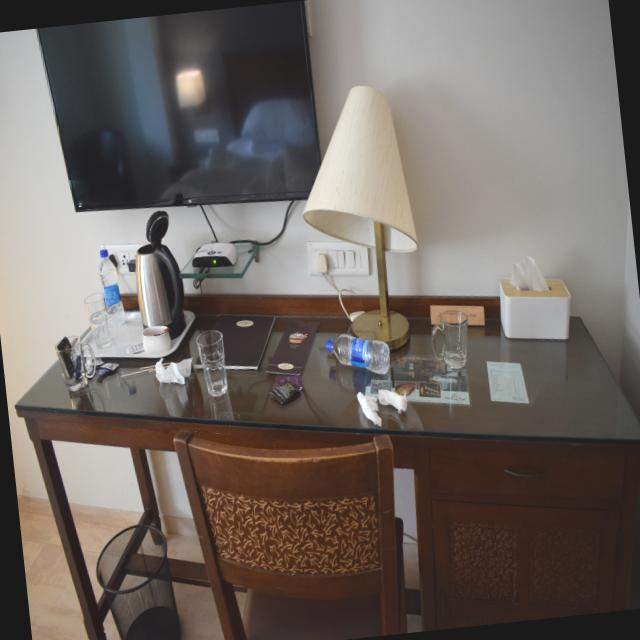mess: (24, 199, 640, 490)
